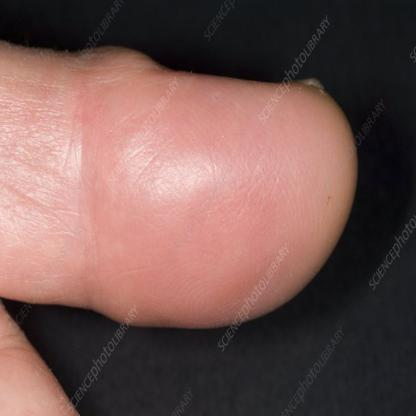Wasp: (78, 80, 302, 309)
